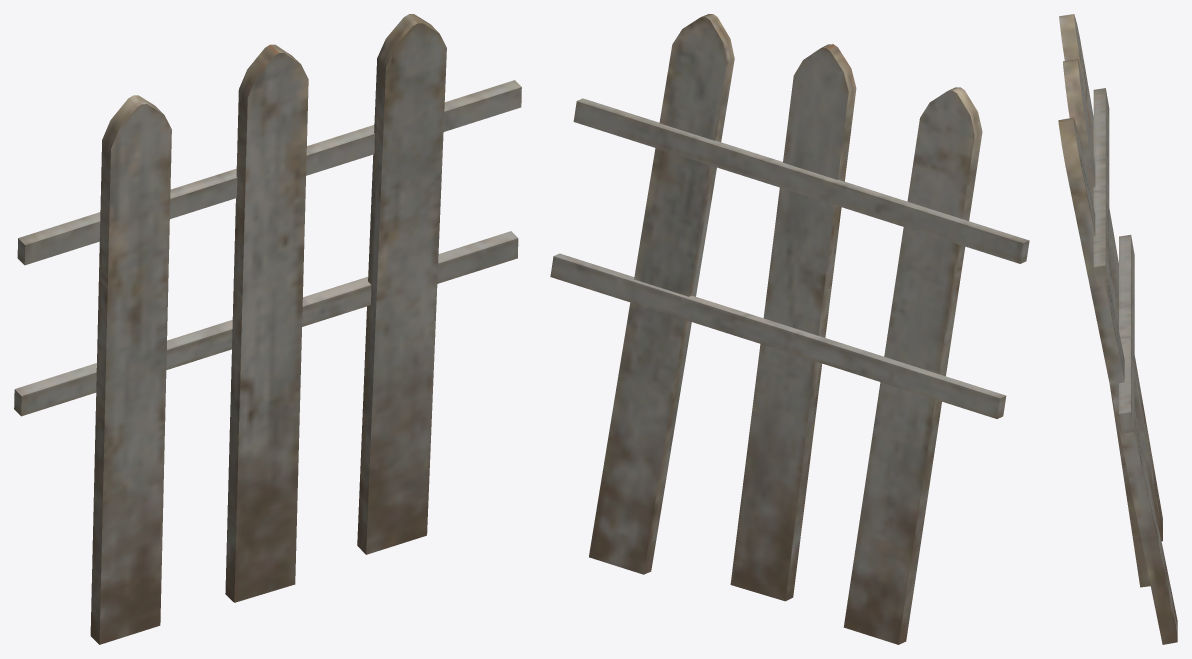
Rendered from Alley_OBJ_Fence_04_S.fbx.
The picture shows the model from 3 angles, left to right: view 1: azimuth 30°, elevation 25°; view 2: azimuth 150°, elevation 25°; view 3: azimuth 270°, elevation 25°; orthographic projection. The views are drawn at different scales.
Visible parts, largest first — view 1: Alley_OBJ_Fence_04_S; view 2: Alley_OBJ_Fence_04_S; view 3: Alley_OBJ_Fence_04_S.
Part boxes in pixels (<box>): Alley_OBJ_Fence_04_S: <box>14,14,521,644</box>; Alley_OBJ_Fence_04_S: <box>550,14,1029,644</box>; Alley_OBJ_Fence_04_S: <box>1058,14,1177,644</box>.
Size of the model in its own units: 125 by 140 by 29.35.
1 material, 1 textured.
